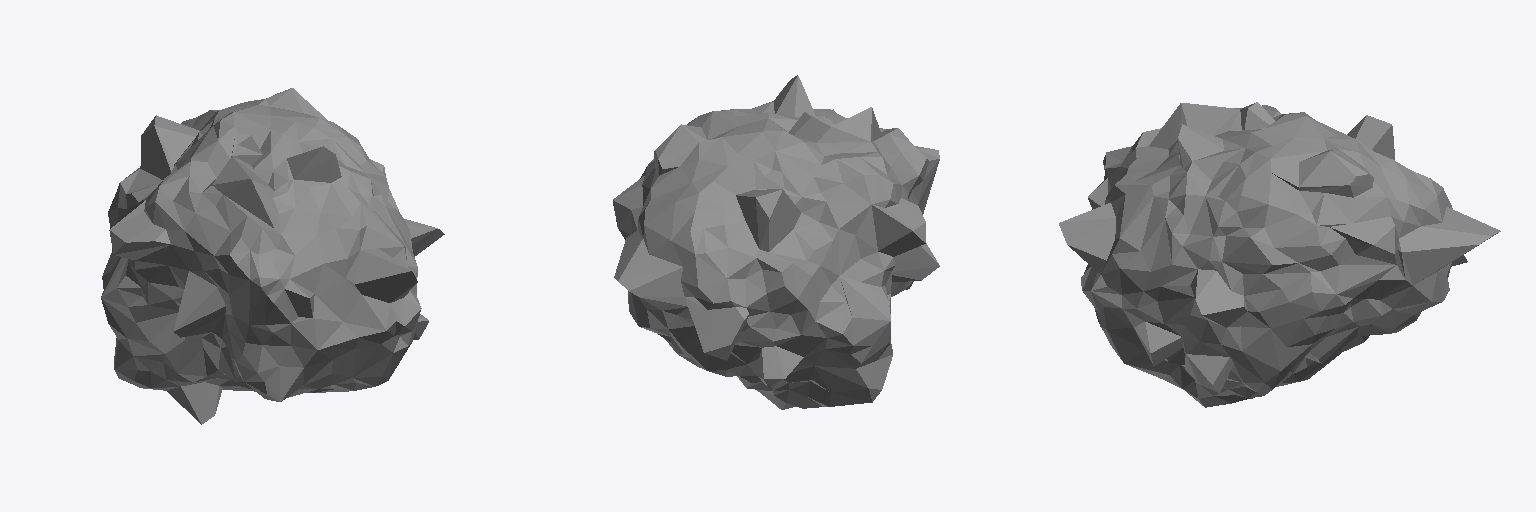
The model's file is Asteroid_4.obj.
The picture shows the model from 3 angles: view 1: azimuth 30°, elevation 25°; view 2: azimuth 150°, elevation 25°; view 3: azimuth 270°, elevation 25°; orthographic projection.
Visible parts, largest first — view 1: Asteroid_4; view 2: Asteroid_4; view 3: Asteroid_4.
Part boxes in pixels (x1,y1,x2,y2): Asteroid_4: (101,88,444,424); Asteroid_4: (613,75,939,409); Asteroid_4: (1059,102,1500,407).
Size of the model in its own units: 89.69 by 80.52 by 115.